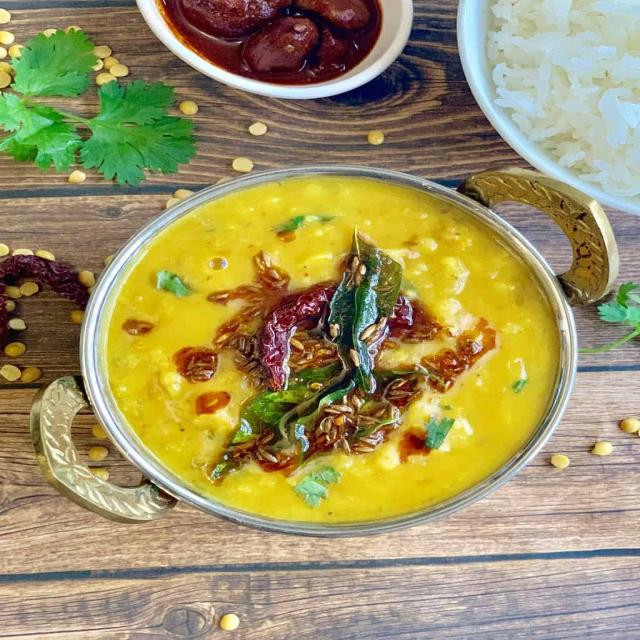dal: (166, 220, 572, 514)
